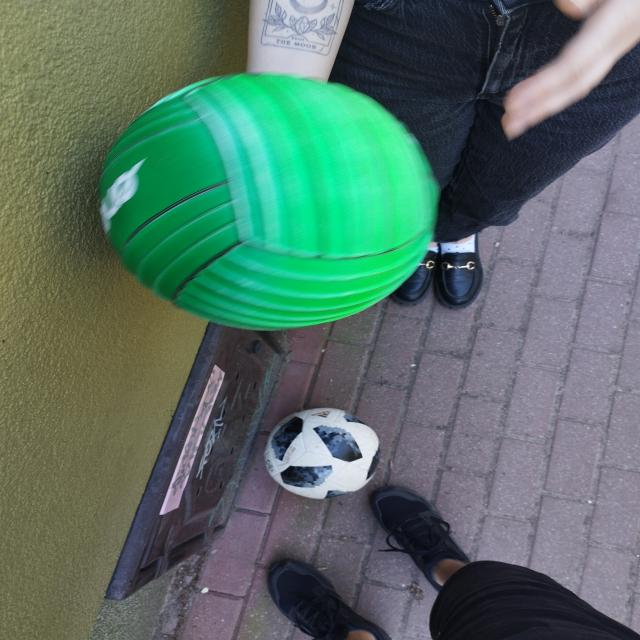nozna: (265, 408, 380, 499)
zielona: (99, 70, 436, 331)
